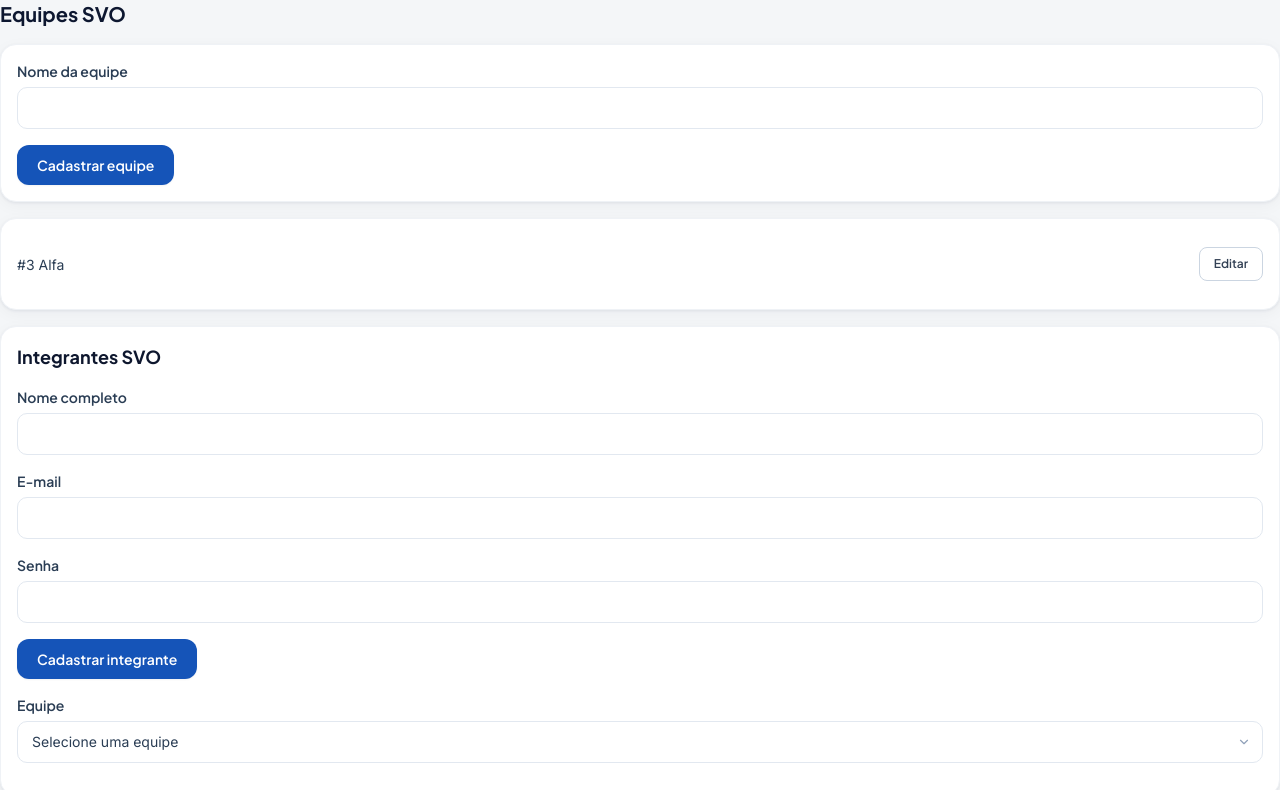
Test: Equipes SVO › permite editar equipe existente
The image size is (1280, 790).
Click the button with aria-label "Editar Alfa". click: x=1231, y=264
box: [1199,247,1263,281]
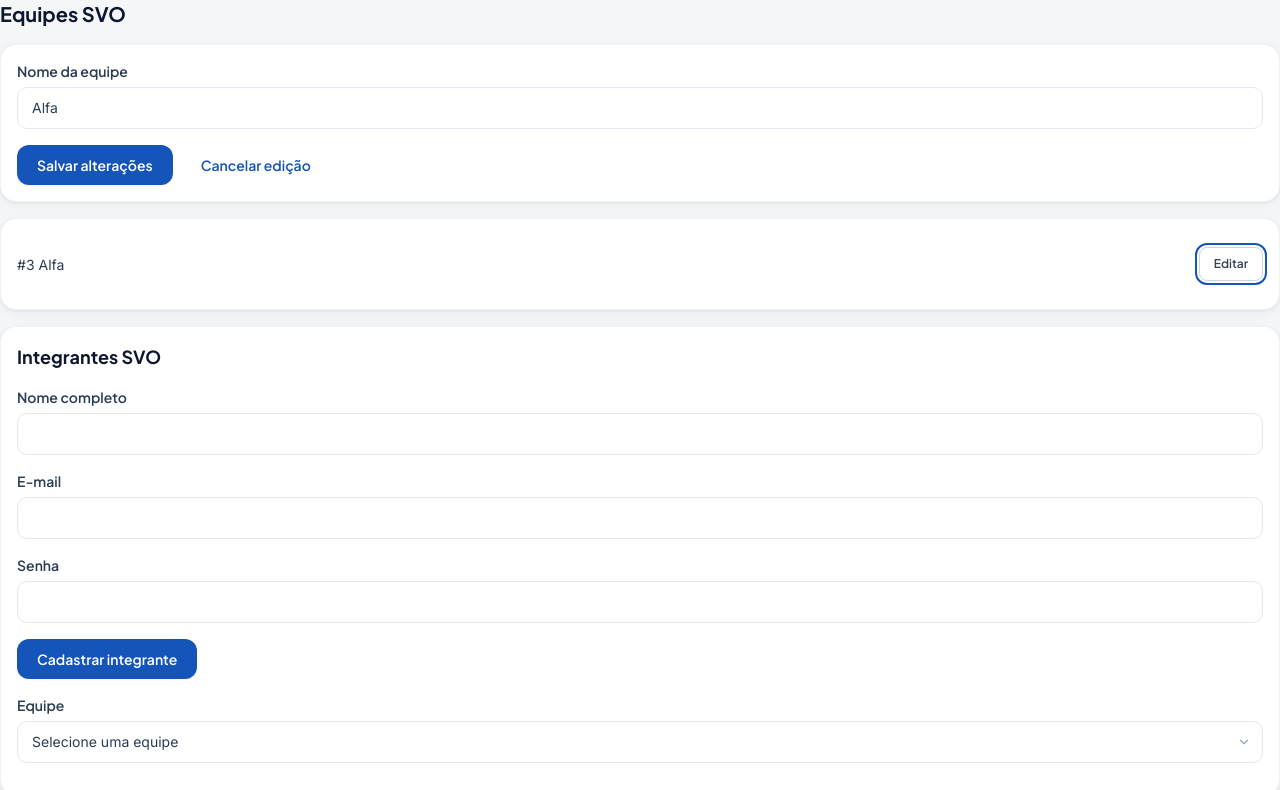
Replace the text in the field labelled "Nome da equipe" with "Beta". click: x=640, y=108
box: [17,87,1263,129]
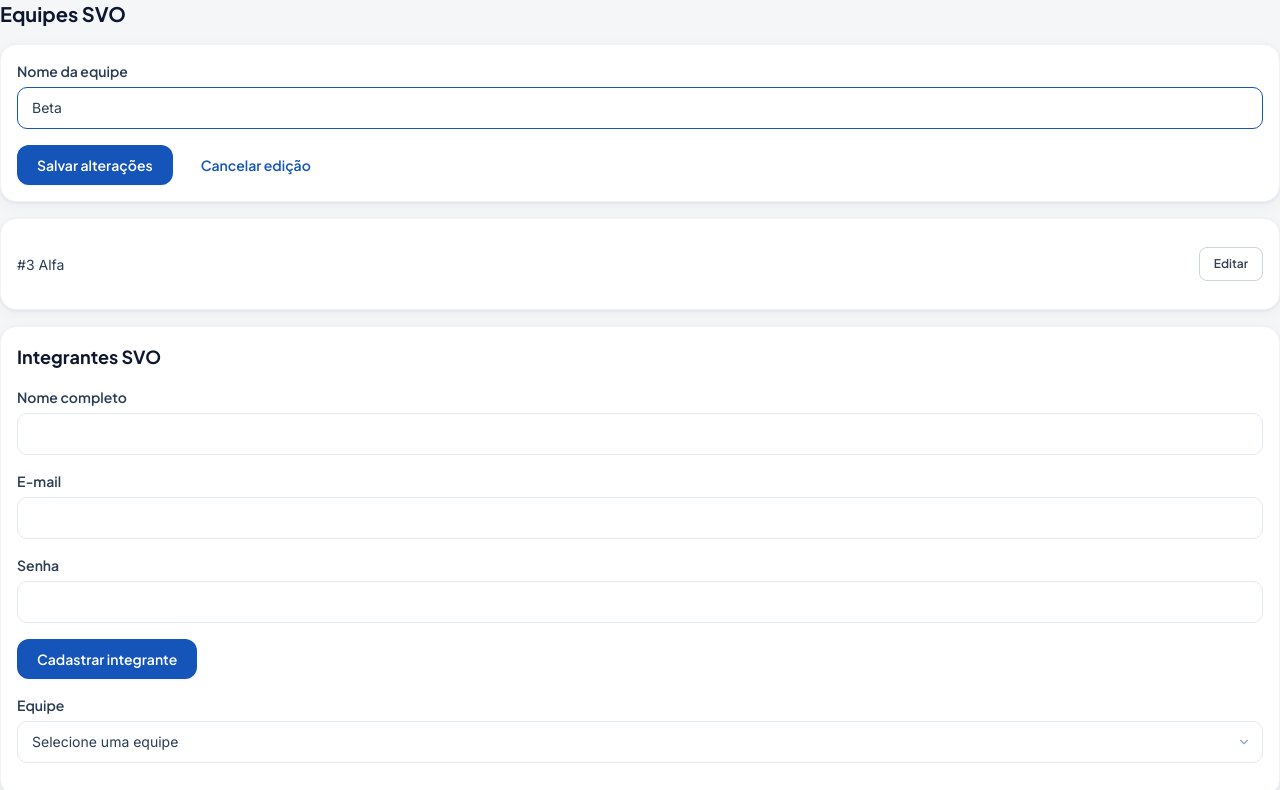
Click the button "Salvar alterações". click: x=95, y=165
box: [17,145,173,185]
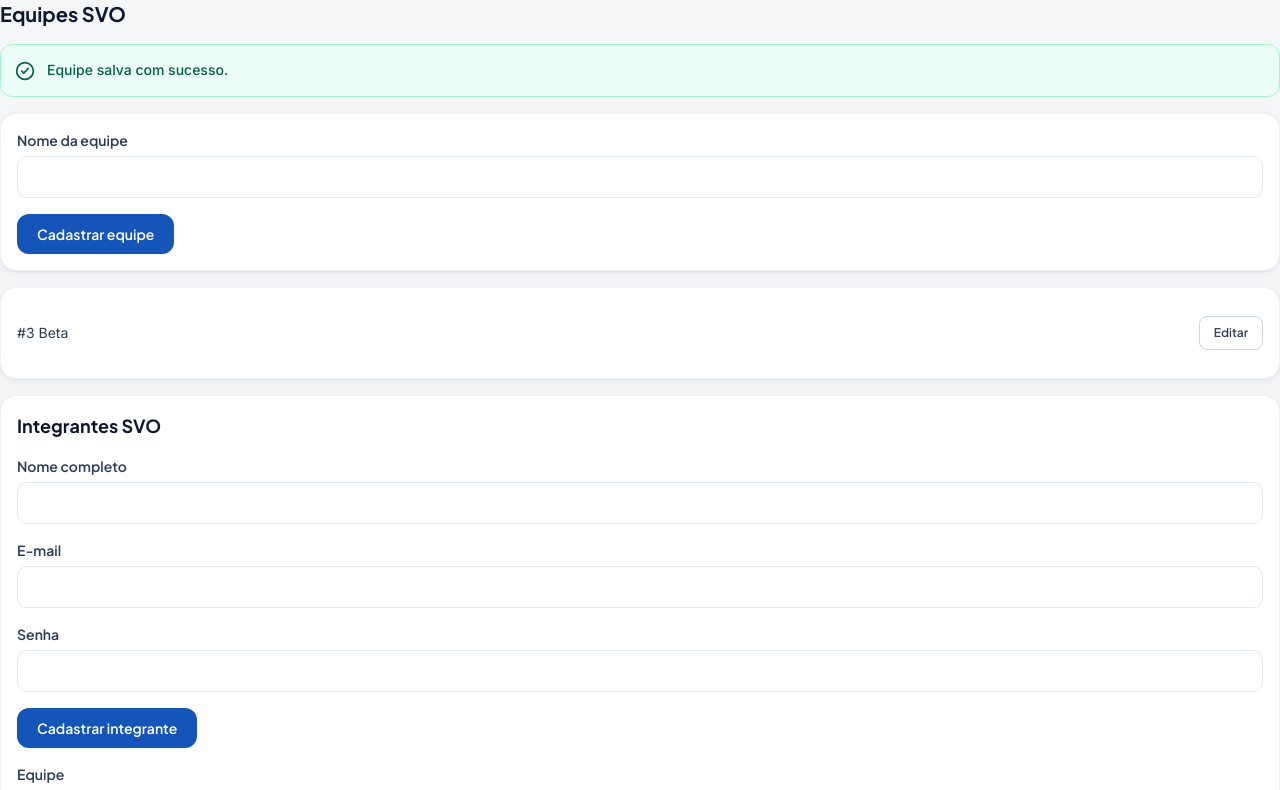
Now the text "#3 Beta" is shown, box [17,322,68,343]
